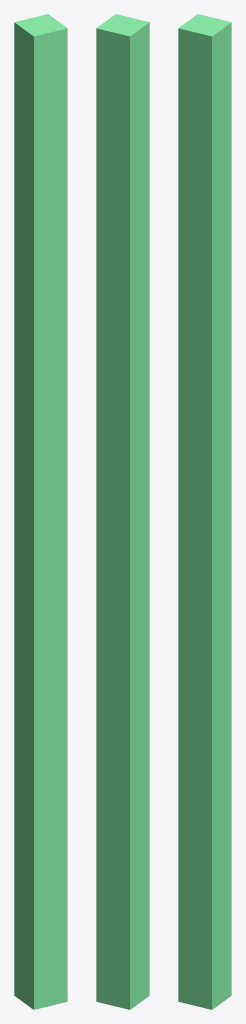
File: Level3Spire.fbx
The picture shows the model from 3 angles, left to right: view 1: azimuth 30°, elevation 25°; view 2: azimuth 150°, elevation 25°; view 3: azimuth 330°, elevation 25°; orthographic projection.
Visible parts, largest first — view 1: Cube.001; view 2: Cube.001; view 3: Cube.001.
Part boxes in pixels (bbox=[...]): Cube.001: bbox=[14, 14, 67, 1009]; Cube.001: bbox=[96, 14, 149, 1009]; Cube.001: bbox=[178, 14, 231, 1009].
Bounding box in the file's own units: 100 × 2750 × 100.
